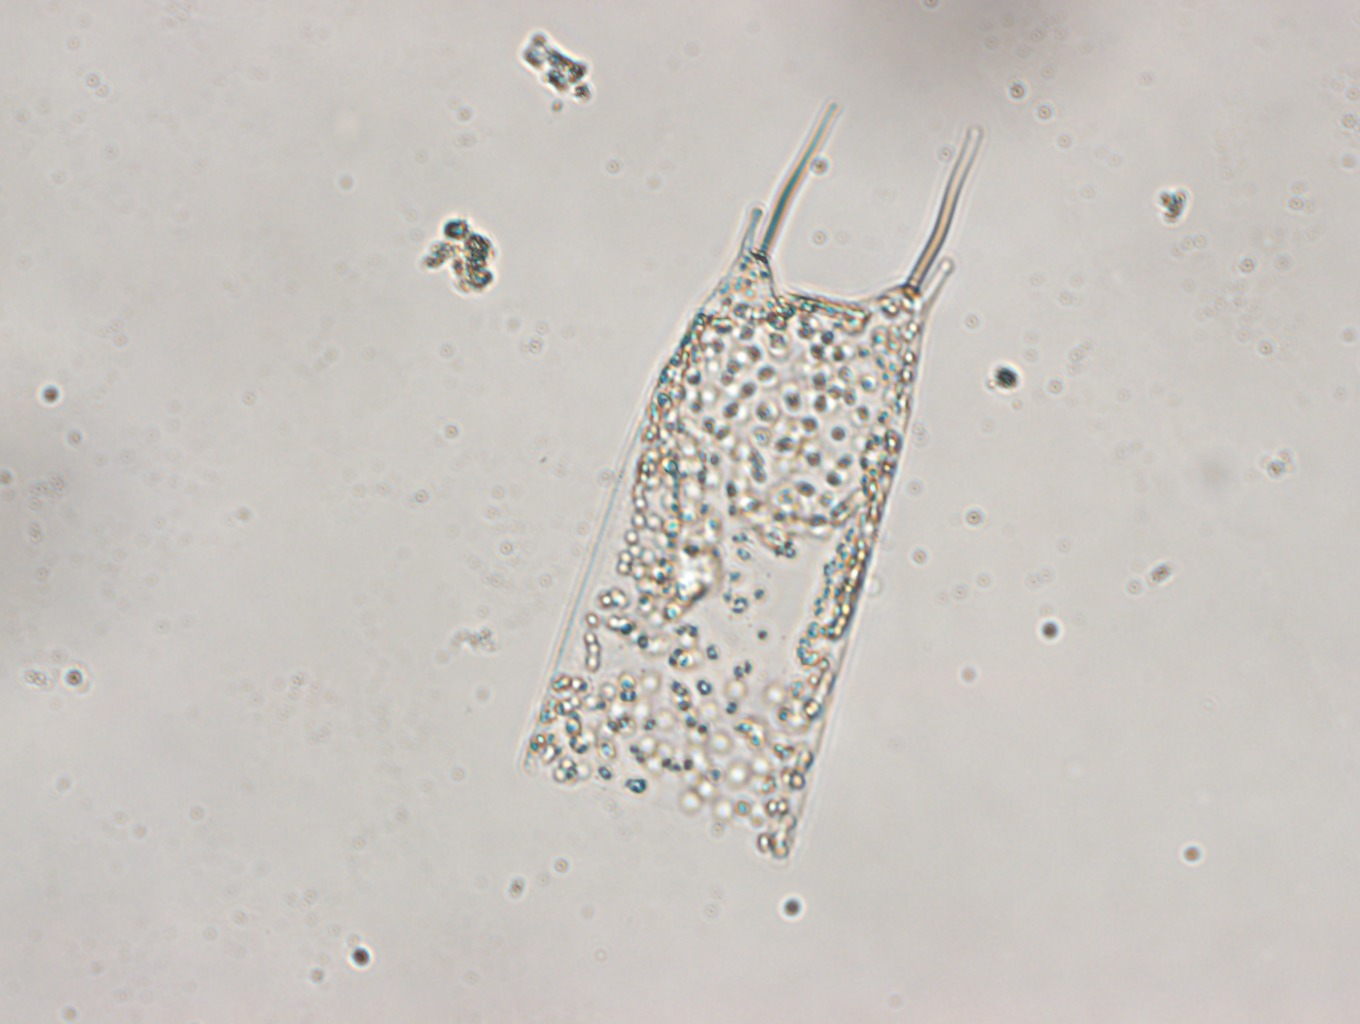biddulphia: (515, 88, 986, 861)
